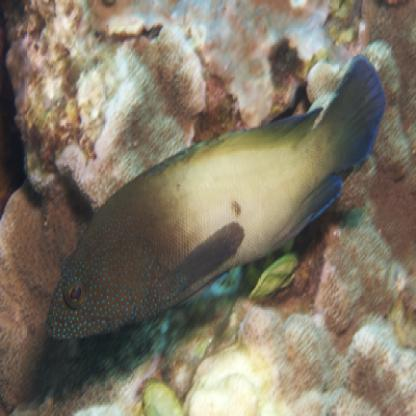Serranidae -Groupers-: (43, 48, 390, 356)
